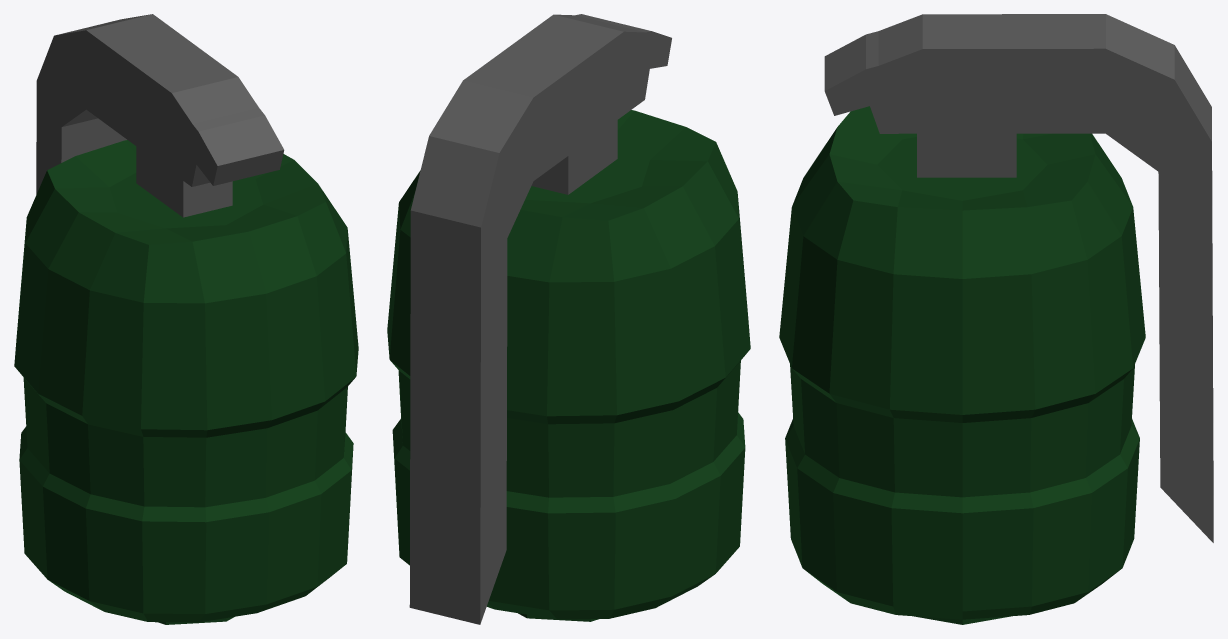
The model's file is ModularFrag.glb.
3 renders of one model, left to right at view 1: azimuth 30°, elevation 25°; view 2: azimuth 150°, elevation 25°; view 3: azimuth 270°, elevation 25°, orthographic. The views are drawn at different scales.
Visible parts, largest first — view 1: GrenadeBody, GrenadeSpoon; view 2: GrenadeBody, GrenadeSpoon; view 3: GrenadeBody, GrenadeSpoon.
Boxes of the visible parts, x1,y1,x2,y2 form: GrenadeBody: [14, 140, 358, 624]; GrenadeSpoon: [36, 14, 284, 217]; GrenadeBody: [387, 110, 750, 621]; GrenadeSpoon: [409, 14, 671, 624]; GrenadeBody: [779, 106, 1145, 624]; GrenadeSpoon: [824, 14, 1213, 542].
Bounding box in the file's own units: 0.5757 × 0.9663 × 0.6823.
